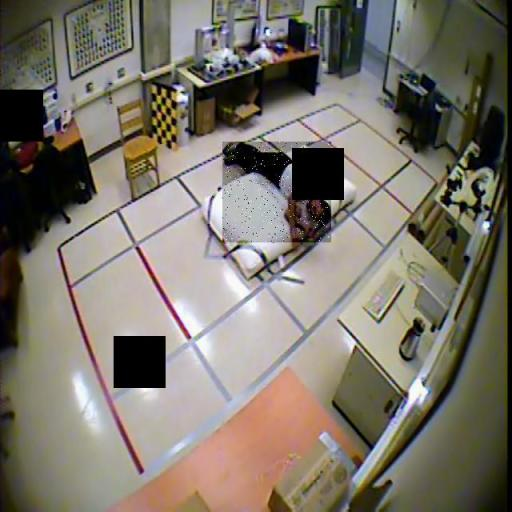Fall: (223, 142, 332, 245)
